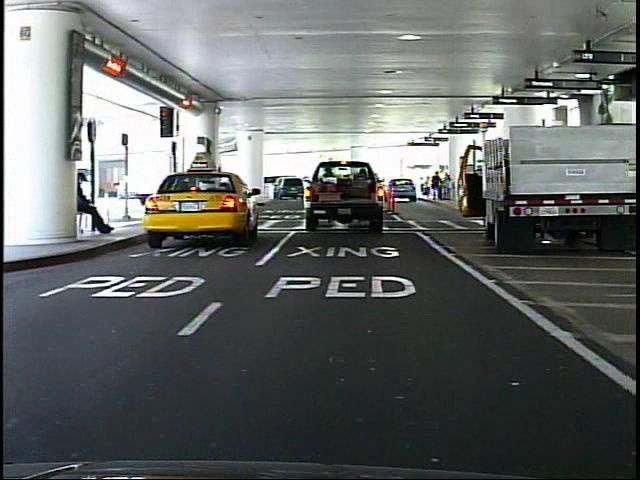person: (78, 169, 118, 239), (164, 167, 185, 218)
